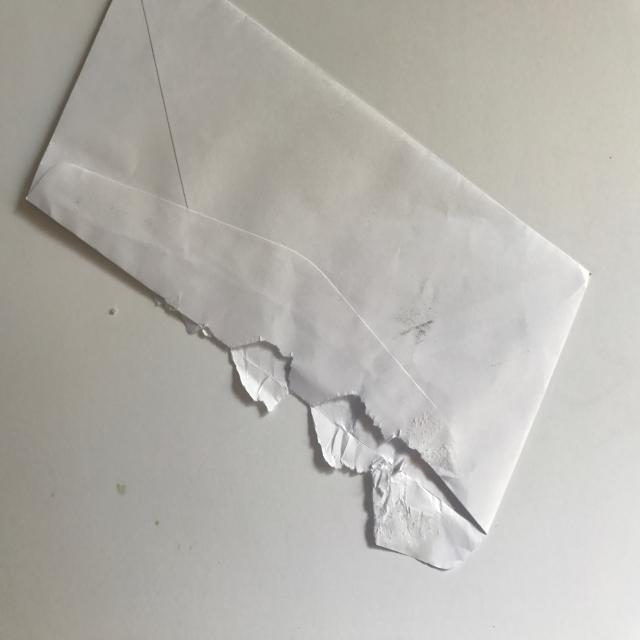paper: (25, 0, 591, 571)
